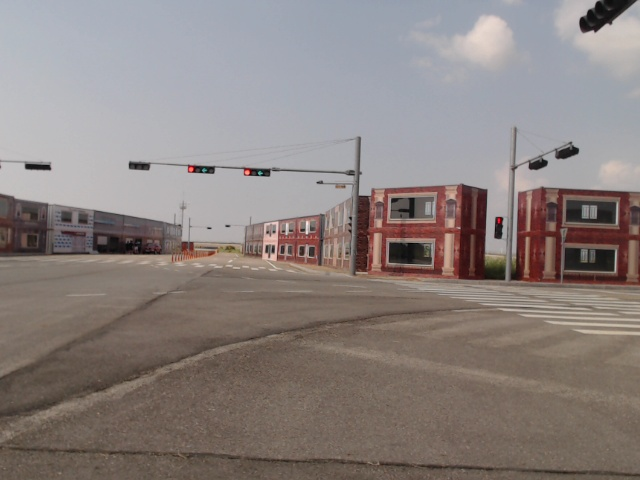left_green_4: (245, 168, 270, 177), (189, 166, 215, 174)
